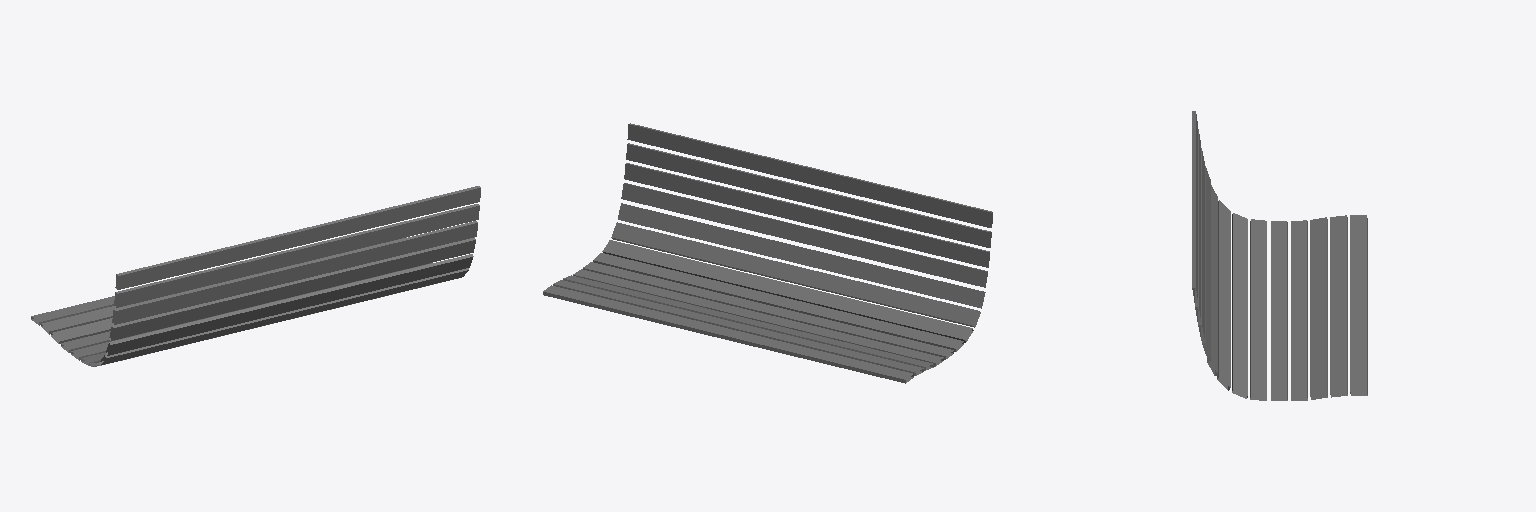
The model's file is bench_wood.obj.
The picture shows the model from 3 angles: view 1: azimuth 30°, elevation 25°; view 2: azimuth 150°, elevation 25°; view 3: azimuth 270°, elevation 25°; orthographic projection.
Parts seen in each view (by area): view 1: bench_wood_Bench_LowRes.002; view 2: bench_wood_Bench_LowRes.002; view 3: bench_wood_Bench_LowRes.002.
Boxes of the visible parts, <box> form: bench_wood_Bench_LowRes.002: <box>31,186,480,366</box>; bench_wood_Bench_LowRes.002: <box>543,123,992,383</box>; bench_wood_Bench_LowRes.002: <box>1192,111,1367,400</box>.
Bounding box in the file's own units: 1.82 × 0.5444 × 0.7601.